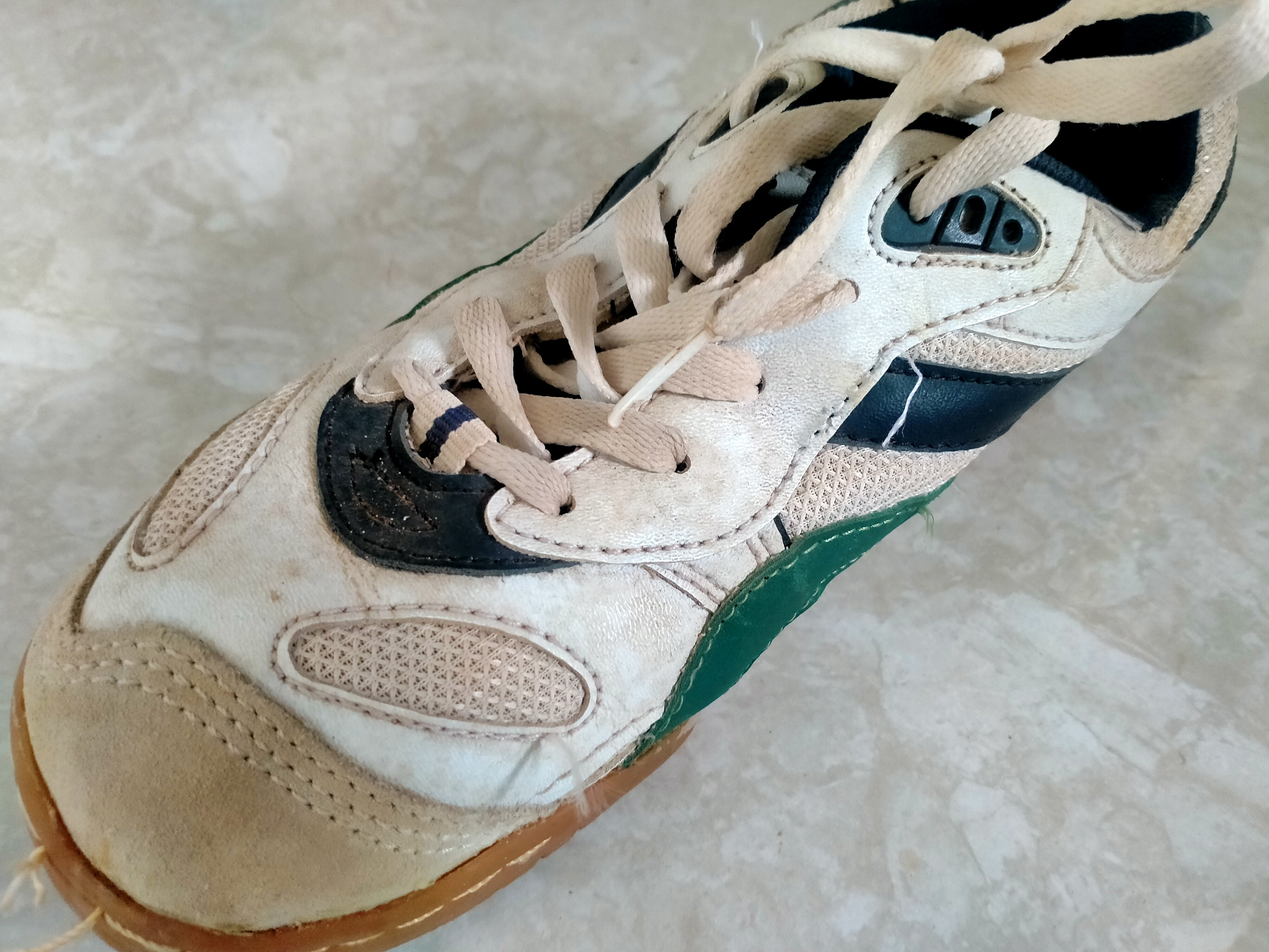broken: (791, 347, 895, 450), (19, 840, 113, 926)
